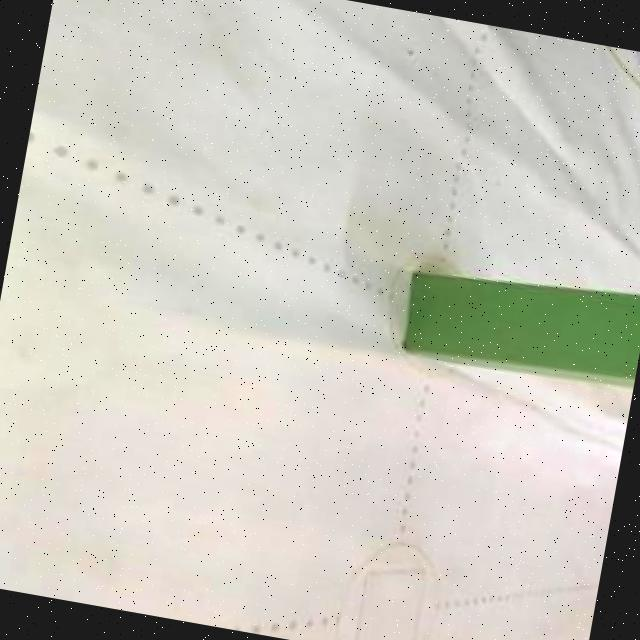greenbox: (395, 249, 640, 391)
